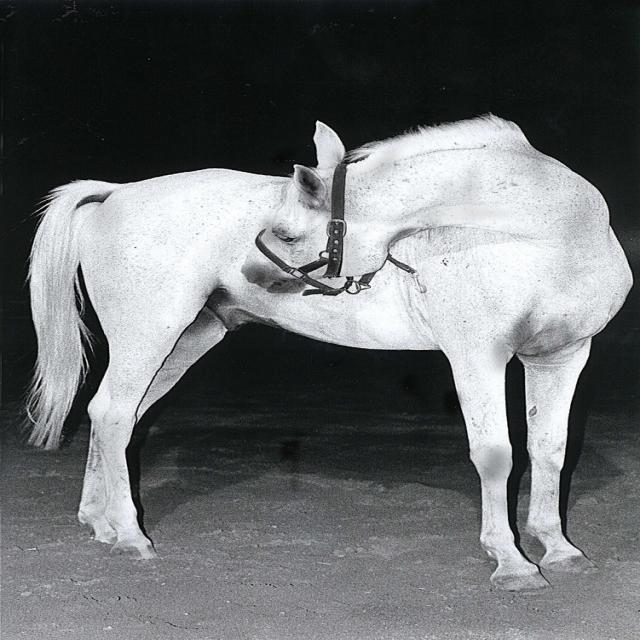Horse: (24, 111, 636, 598)
